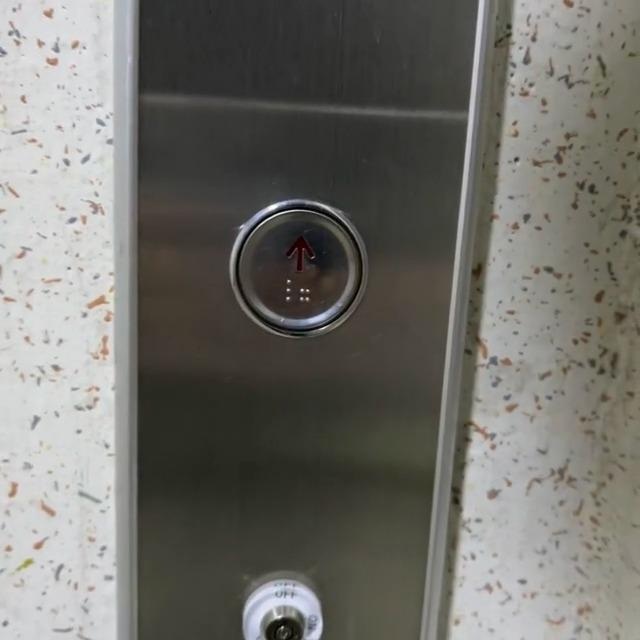button: (228, 188, 374, 351)
